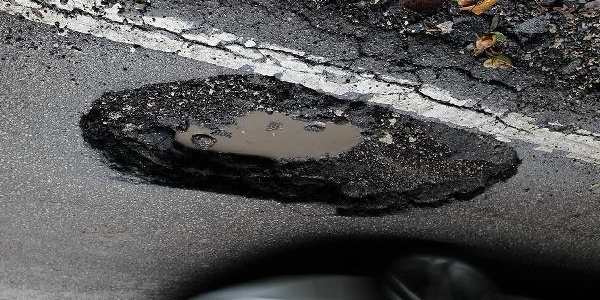pothole: (76, 71, 525, 221)
